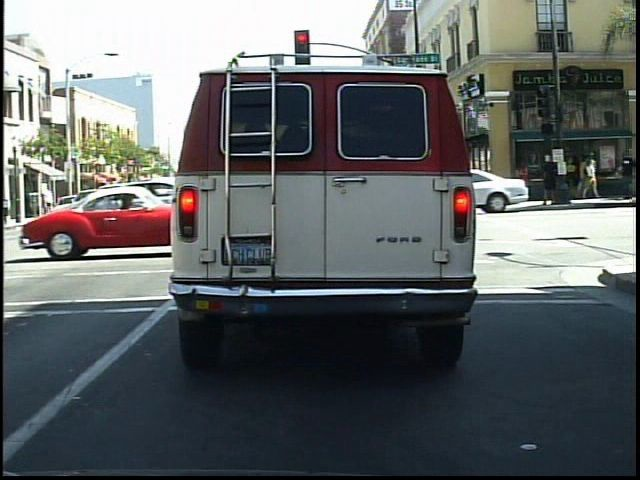person: (614, 141, 636, 209), (539, 151, 562, 207), (513, 156, 534, 203)
